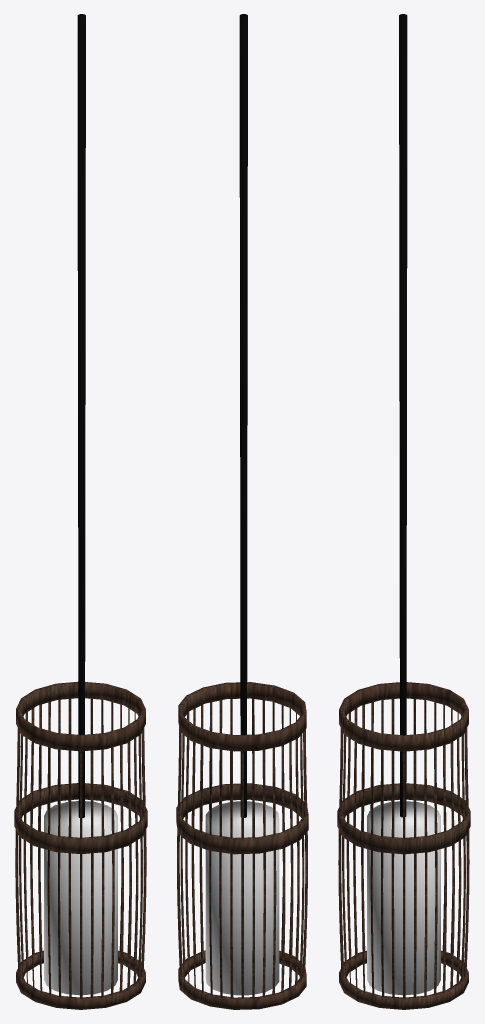
The model's file is dining_light.fbx.
The picture shows the model from 3 angles, left to right: view 1: azimuth 90°, elevation 25°; view 2: azimuth 150°, elevation 25°; view 3: azimuth 270°, elevation 25°; orthographic projection.
Visible parts, largest first — view 1: 円.004, 円.003, 円.005; view 2: 円.004, 円.003, 円.005; view 3: 円.004, 円.003, 円.005.
Part boxes in pixels (<box>): 円.004: <box>14,681,147,1009</box>; 円.003: <box>44,801,117,995</box>; 円.005: <box>77,14,85,817</box>; 円.004: <box>176,682,308,1009</box>; 円.003: <box>205,801,279,995</box>; 円.005: <box>239,14,247,817</box>; 円.004: <box>337,682,470,1009</box>; 円.003: <box>367,801,440,995</box>; 円.005: <box>399,14,407,817</box>.
Size of the model in its own units: 16.98 by 136 by 16.98.
